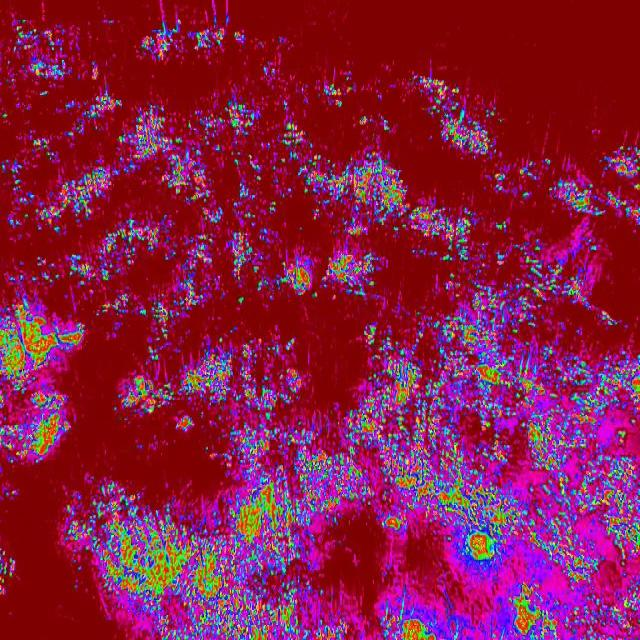fire: (9, 16, 282, 320), (490, 144, 640, 640), (210, 426, 490, 640), (281, 61, 489, 316), (120, 320, 488, 426), (62, 482, 210, 640), (0, 298, 88, 464)
